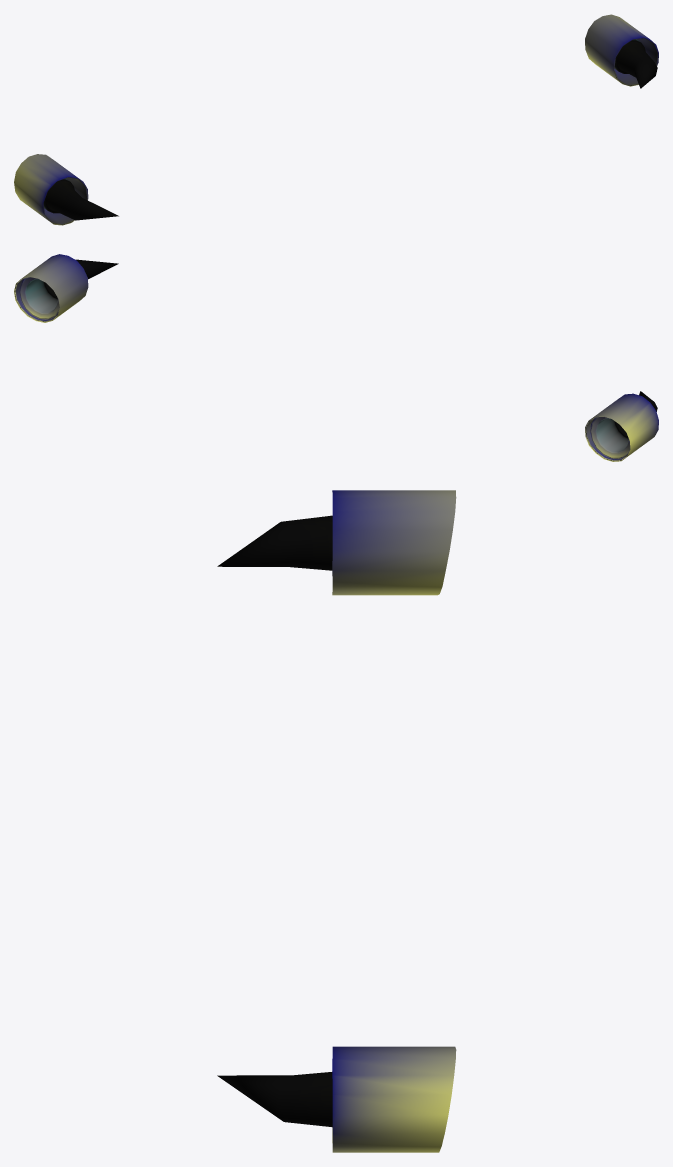
Rendered from Car_Mini_CountrymanJCW_2017_Exhausts_SetA.fbx.
3 renders of one model, top to bottom at view 1: azimuth 30°, elevation 25°; view 2: azimuth 150°, elevation 25°; view 3: azimuth 270°, elevation 25°, orthographic. The views are drawn at different scales.
Visible parts, largest first — view 1: Exhausts 6; view 2: Exhausts 6; view 3: Exhausts 6.
Part boxes in pixels (x1,y1,x2,y2): Exhausts 6: [14, 14, 658, 225]; Exhausts 6: [14, 254, 658, 461]; Exhausts 6: [217, 490, 456, 1152].
Size of the model in its own units: 1.16 by 0.0851 by 0.1944.
